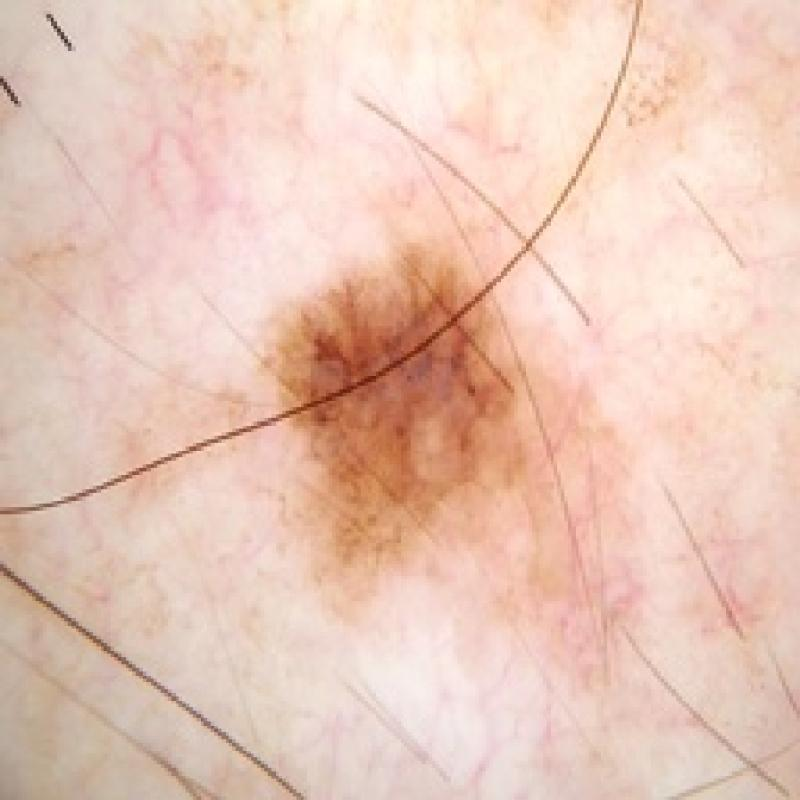malignant: (234, 192, 550, 582)
